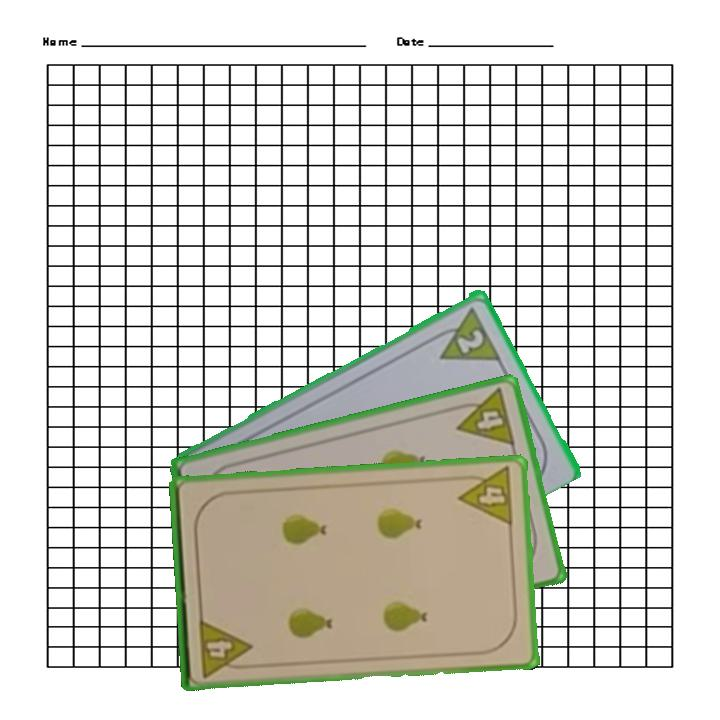2p: (453, 325, 487, 356)
4p: (448, 385, 518, 449), (454, 463, 517, 529), (195, 615, 255, 680)
